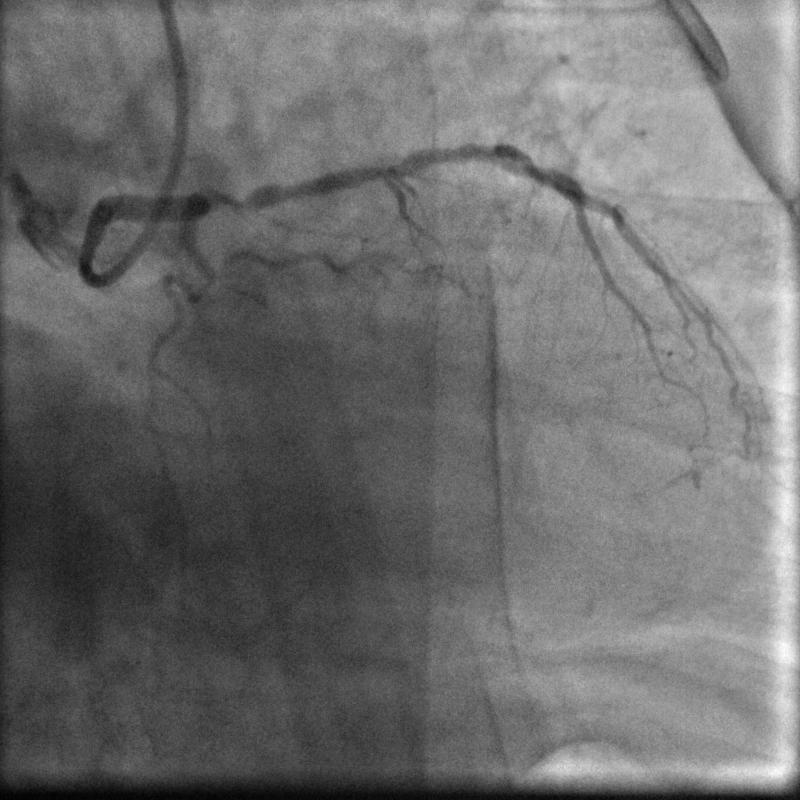Stenosis: (200, 181, 263, 210)
